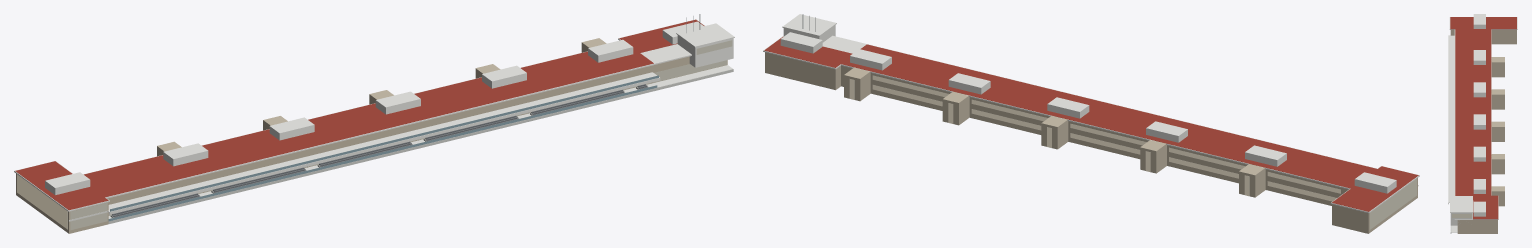
File: mex_pit_upper.glb
3 views of the same model, side by side, from view 1: azimuth 30°, elevation 25°; view 2: azimuth 150°, elevation 25°; view 3: azimuth 270°, elevation 25° (orthographic). The views are drawn at different scales.
Visible parts, largest first — view 1: mexico-city-pit-building; view 2: mexico-city-pit-building; view 3: mexico-city-pit-building.
Part boxes in pixels (x1=…): mexico-city-pit-building: x1=14, y1=14, x2=734, y2=233; mexico-city-pit-building: x1=763, y1=14, x2=1419, y2=233; mexico-city-pit-building: x1=1448, y1=14, x2=1517, y2=233.
Size of the model in its own units: 305 by 22.3 by 44.
